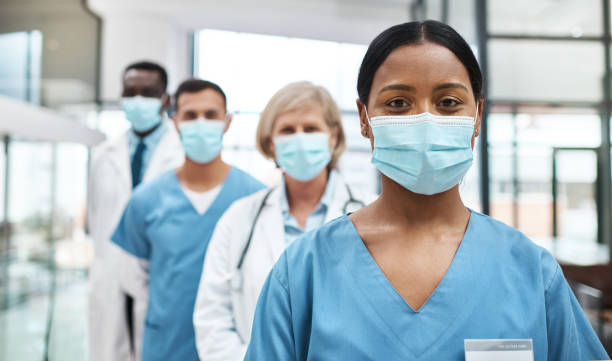with mask: (353, 23, 489, 196), (258, 82, 346, 194), (174, 80, 236, 165), (120, 60, 169, 134)
